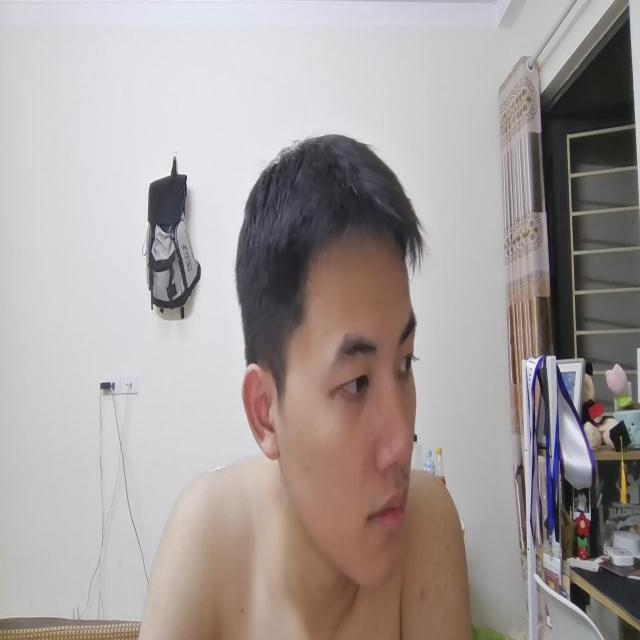student: (121, 130, 475, 640)
